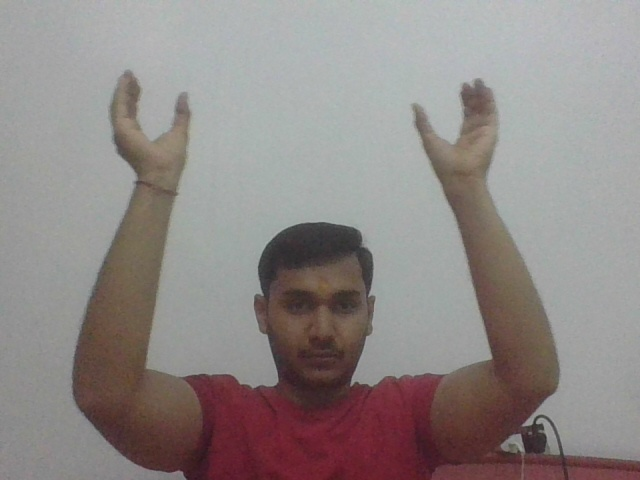U: (409, 71, 508, 184), (103, 63, 197, 179)
